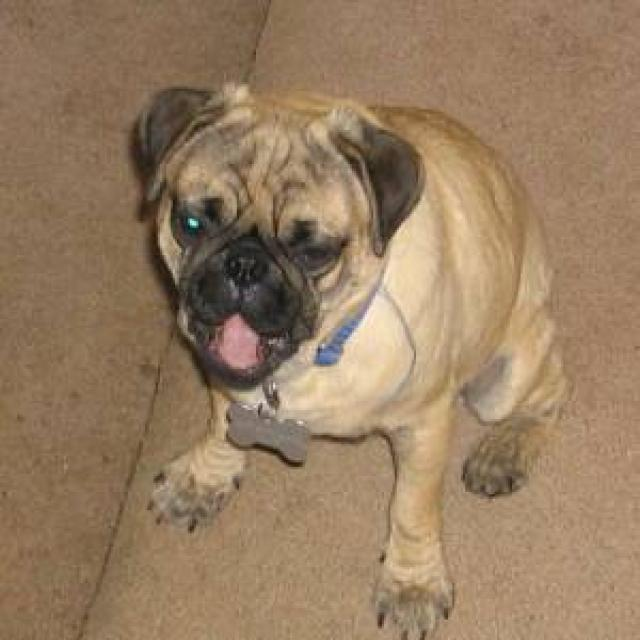dog-pug: (132, 87, 576, 635)
